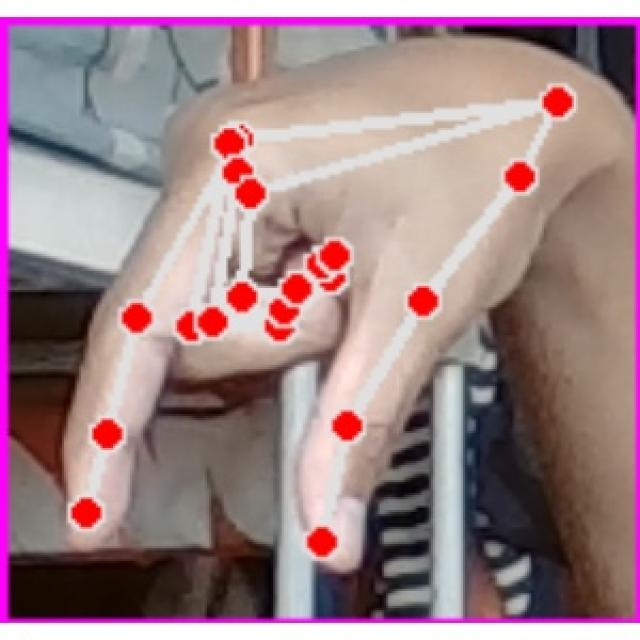Q: (53, 30, 602, 574)
